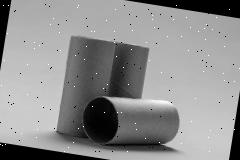paper: (55, 34, 150, 145), (78, 86, 182, 156), (107, 41, 150, 100)
